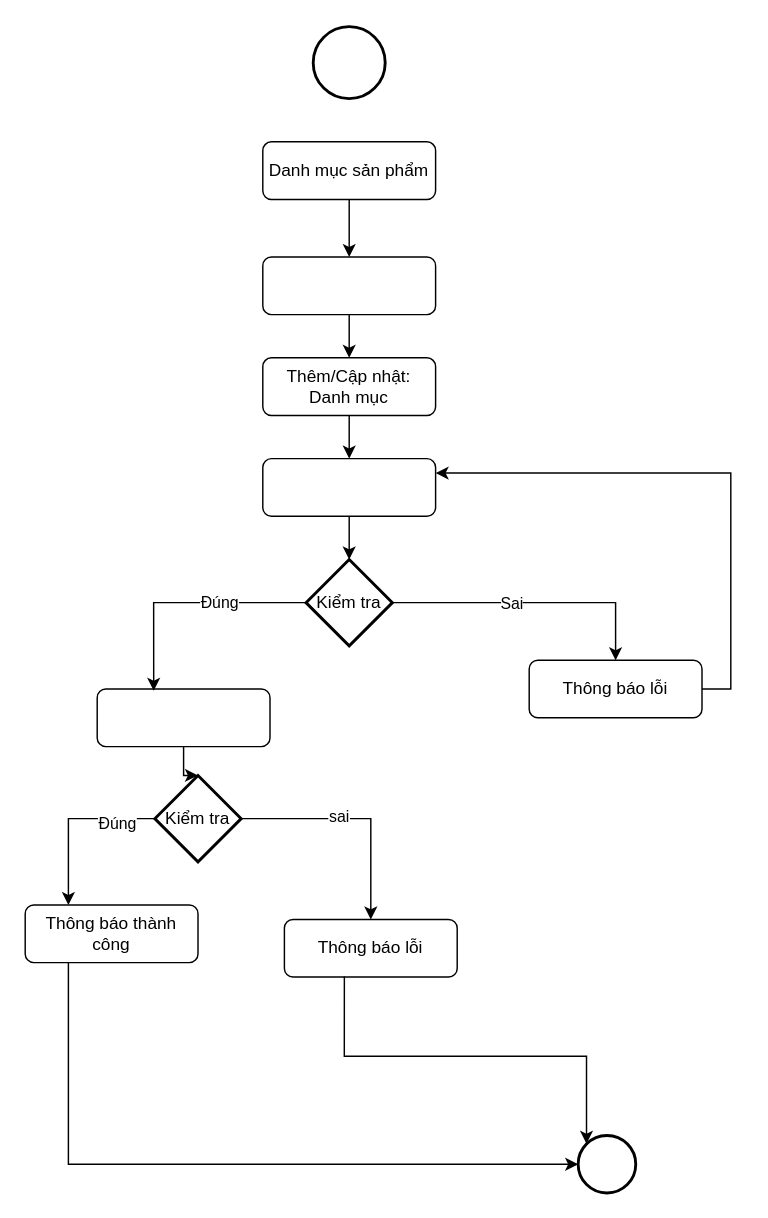
Image size: 768x1218. Some labels were removed from this diagram. Each missing label, with the centre of its shape:
Chọn Danh mục: (348,285)
Lưu DM: (183,717)
Nhập dữ liệu: (348,486)
